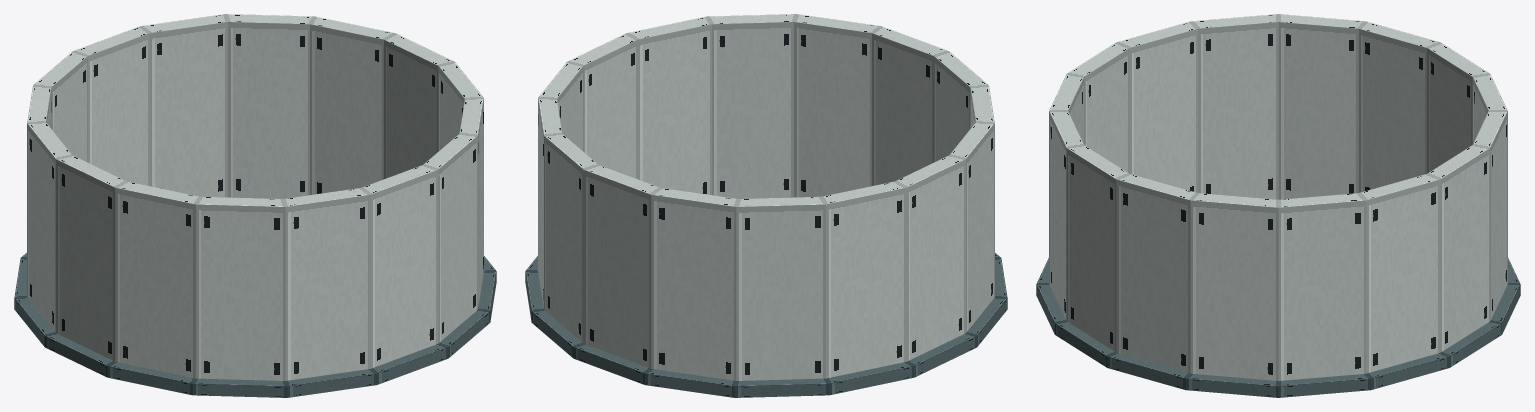
The model's file is detail_chimney_white.obj.
3 views of the same model, side by side, from view 1: azimuth 30°, elevation 25°; view 2: azimuth 150°, elevation 25°; view 3: azimuth 270°, elevation 25° (orthographic).
Size of the model in its own units: 2.38 by 1 by 2.38.
